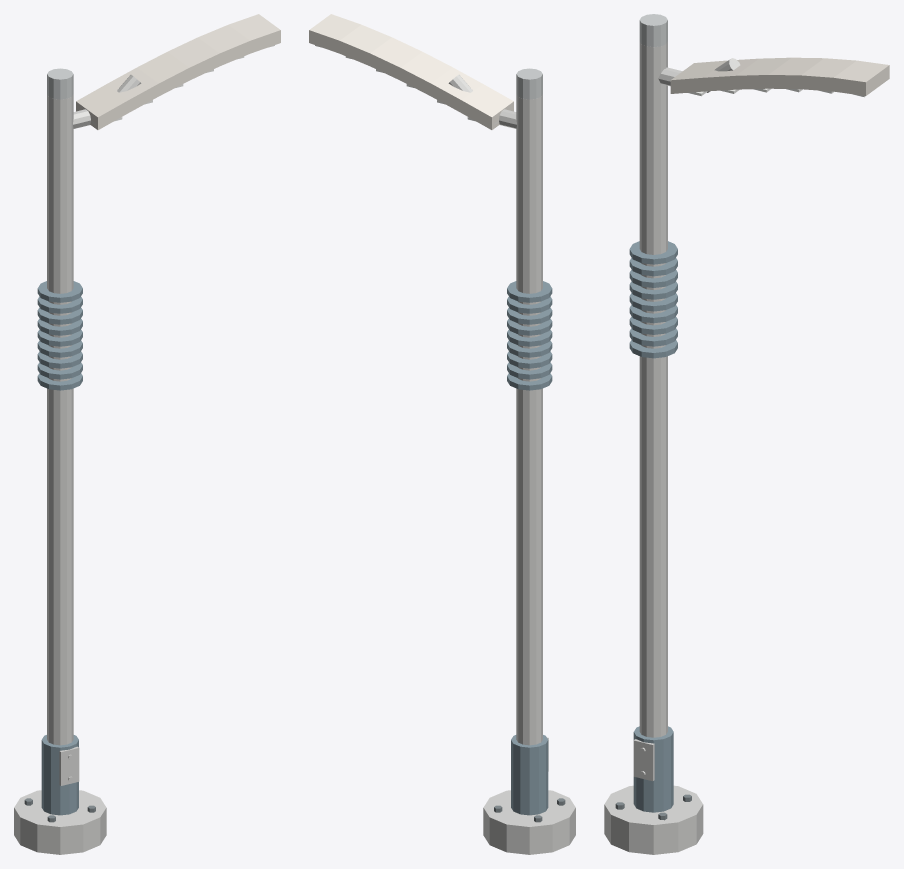
Rendered from prop-streetlamp.glb.
3 renders of one model, left to right at view 1: azimuth 30°, elevation 25°; view 2: azimuth 150°, elevation 25°; view 3: azimuth 330°, elevation 25°, orthographic. The views are drawn at different scales.
Parts seen in each view (by area): view 1: base_0, blade_luminaire_14; view 2: base_0, blade_luminaire_14; view 3: base_0, blade_luminaire_14.
Boxes of the visible parts, bbox=[...] form: base_0: bbox=[14, 74, 141, 854]; blade_luminaire_14: bbox=[47, 14, 280, 129]; base_0: bbox=[448, 74, 575, 854]; blade_luminaire_14: bbox=[309, 14, 542, 129]; base_0: bbox=[604, 41, 740, 854]; blade_luminaire_14: bbox=[639, 14, 889, 97].
Size of the model in its own units: 1.31 by 3.82 by 0.4202.
2 materials, 2 textured.
